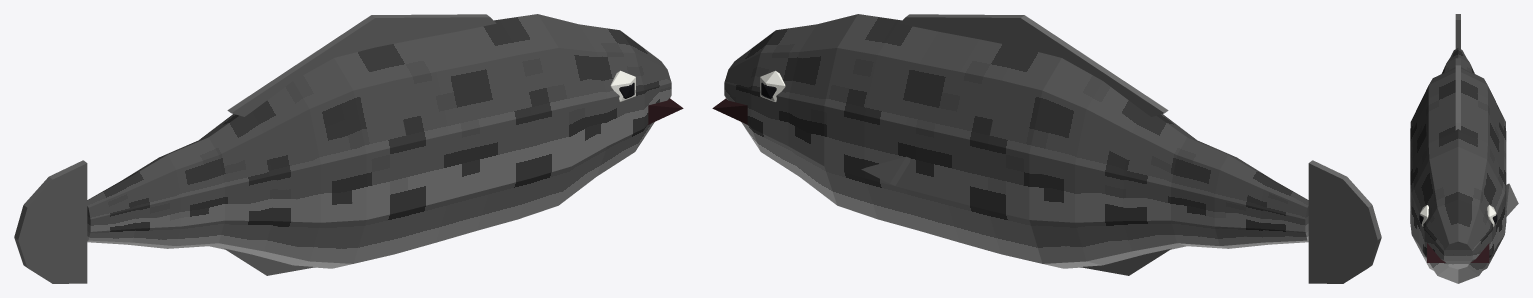
Rendered from wreck_fish.glb.
3 renders of one model, left to right at view 1: azimuth 30°, elevation 25°; view 2: azimuth 150°, elevation 25°; view 3: azimuth 270°, elevation 25°, orthographic. The views are drawn at different scales.
Parts seen in each view (by area): view 1: fish_wreck_fish; view 2: fish_wreck_fish; view 3: fish_wreck_fish.
Boxes of the visible parts, x1,y1,x2,y2 form: fish_wreck_fish: (14,14,683,283); fish_wreck_fish: (712,14,1381,283); fish_wreck_fish: (1410,14,1518,283).
Size of the model in its own units: 1.12 by 0.4025 by 0.2363.
Materials: 5 (1 with a texture image).
